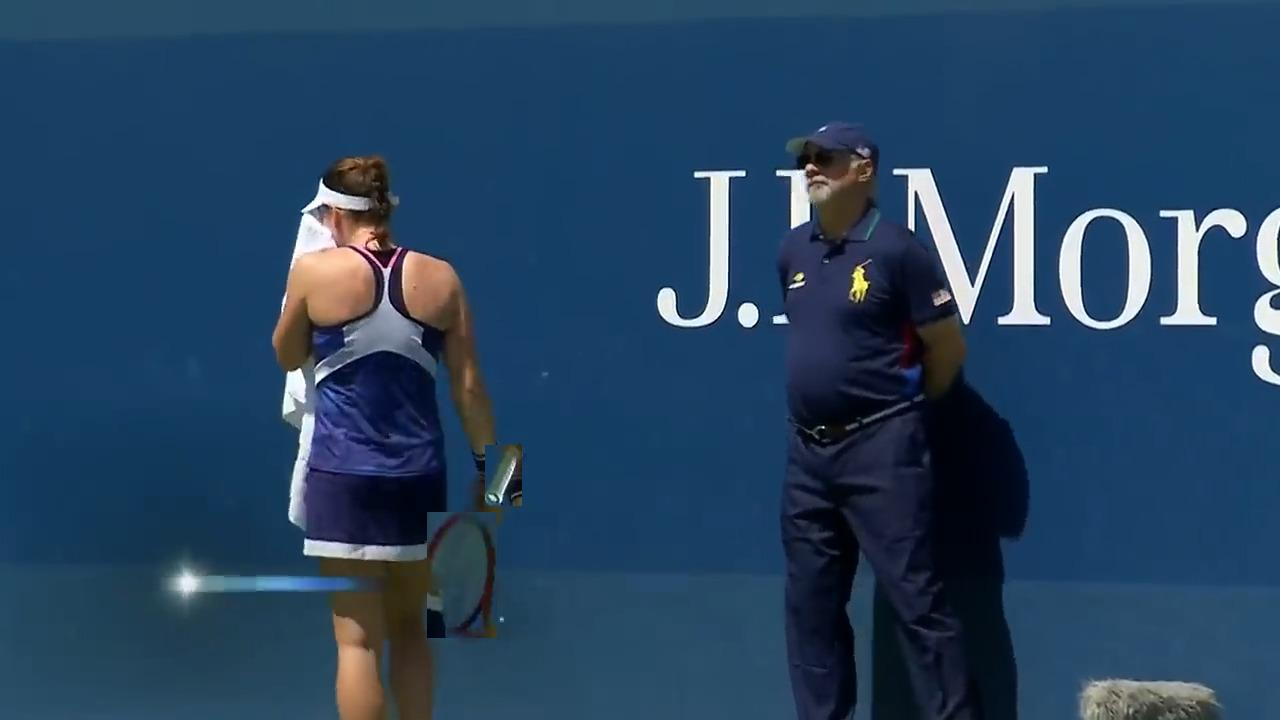tennis racket: (427, 512, 497, 638), (485, 445, 522, 506)
